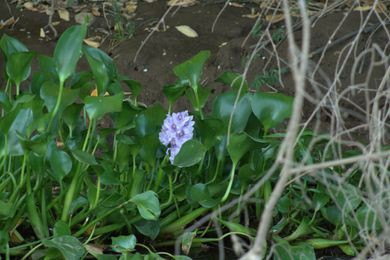water_hyacinth: (1, 23, 293, 260)
